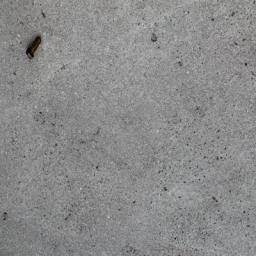FOD: (25, 36, 45, 61)
